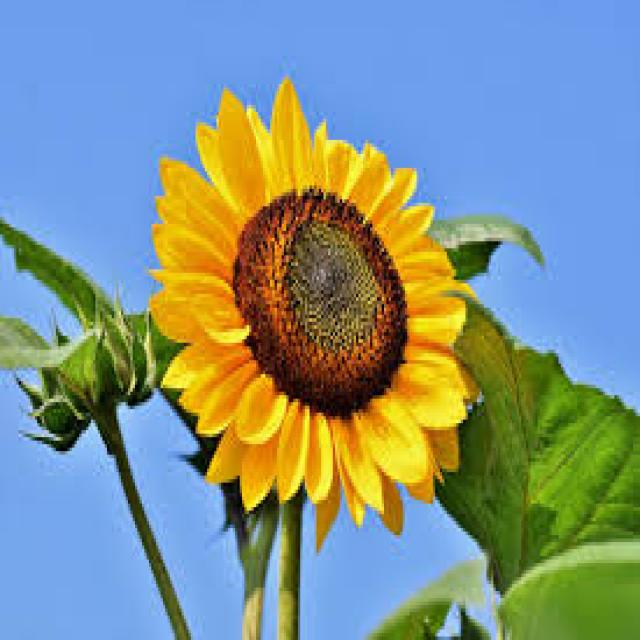sunflower: (137, 63, 482, 535)
